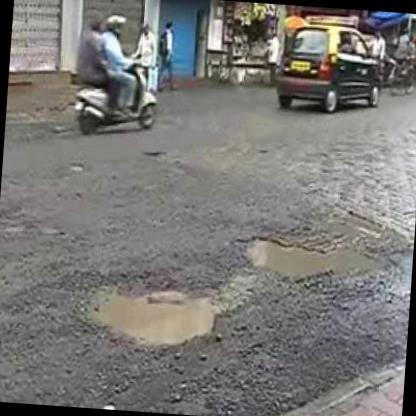pothole: (84, 276, 236, 352), (238, 222, 397, 282)
